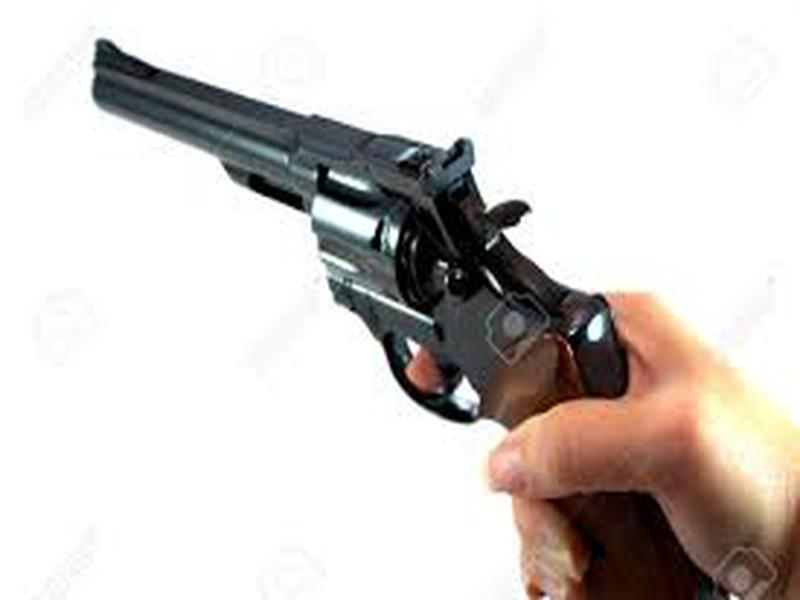gun: (88, 34, 771, 600)
